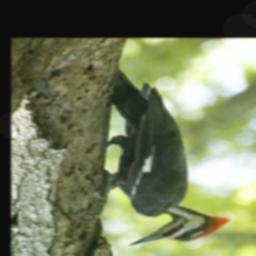Woodpecker: (101, 69, 232, 245)
